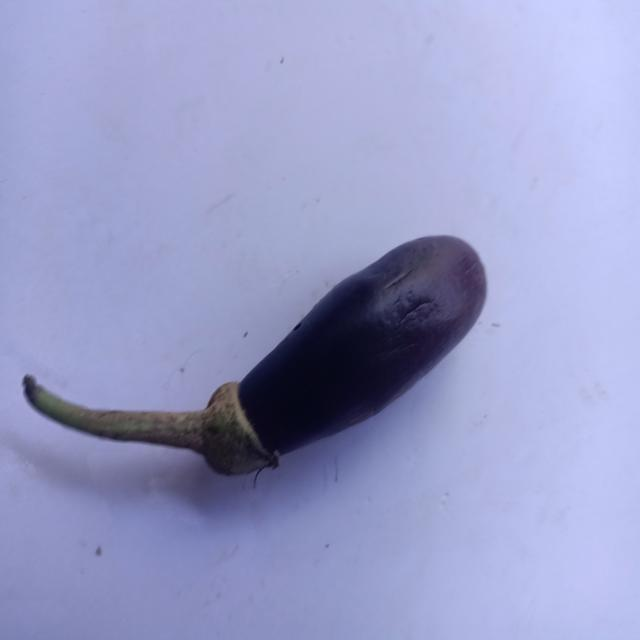Brinjal: (10, 197, 508, 495)
